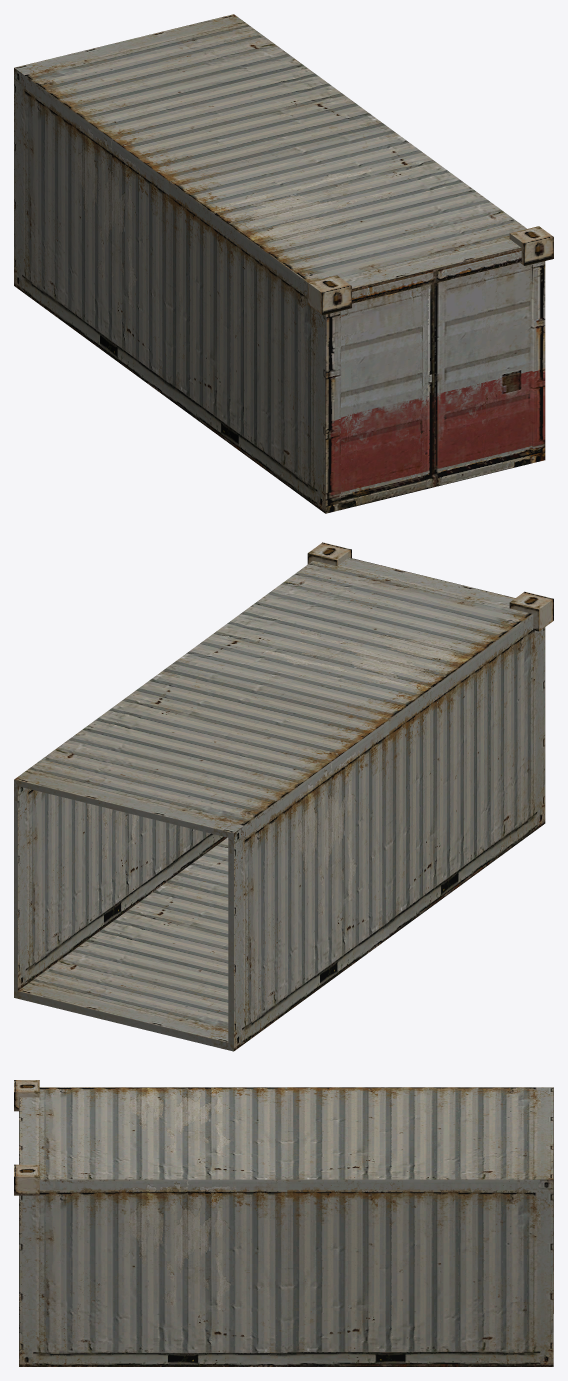
Rendered from Cover_Container03.glb.
3 renders of one model, top to bottom at view 1: azimuth 30°, elevation 25°; view 2: azimuth 150°, elevation 25°; view 3: azimuth 270°, elevation 25°, orthographic. The views are drawn at different scales.
Visible parts, largest first — view 1: xiutz_container03; view 2: xiutz_container03; view 3: xiutz_container03.
Part boxes in pixels (box(x1,y1,x2,y2)): xiutz_container03: box(14, 14, 553, 513); xiutz_container03: box(14, 542, 553, 1051); xiutz_container03: box(14, 1080, 553, 1366).
Bounding box in the file's own units: 4.81 × 4.45 × 11.34.
Materials: 1 (1 with a texture image).
